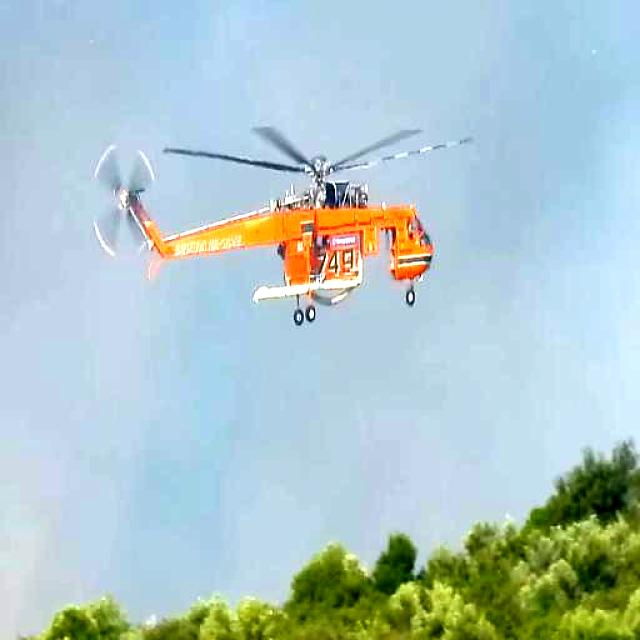drone: (95, 80, 485, 355)
